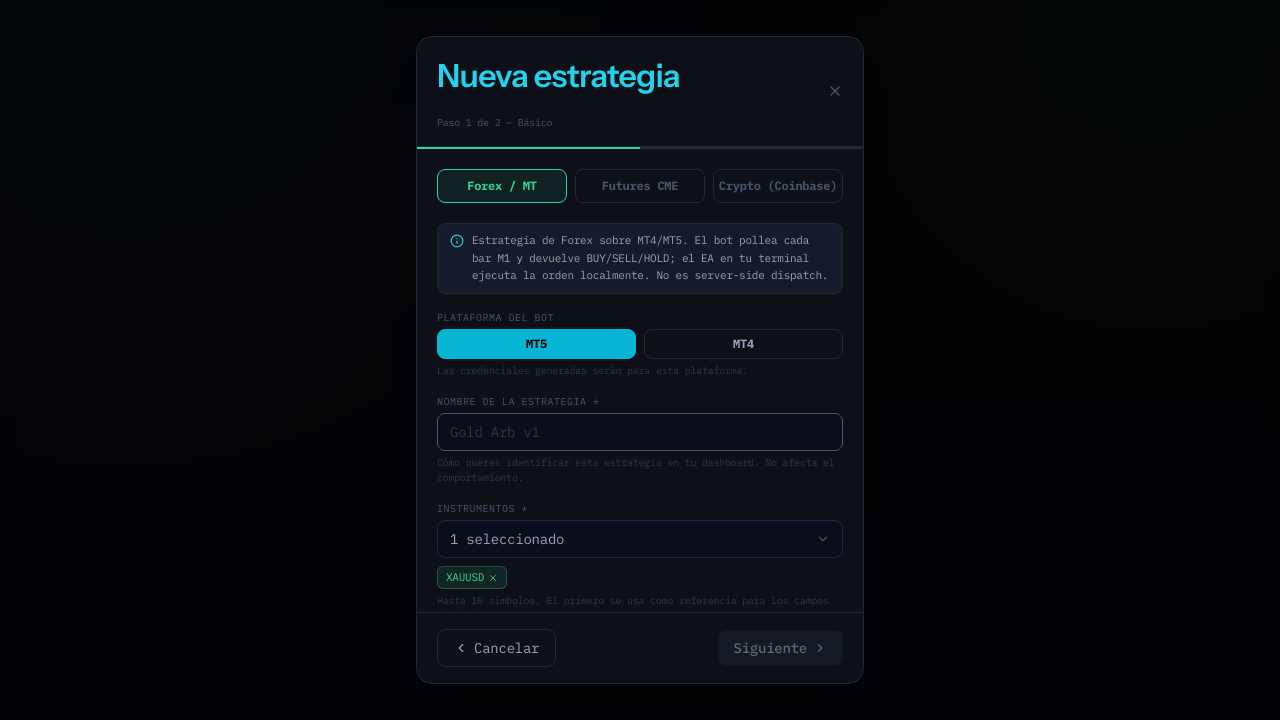
NewStrategyWizard › switching to Futures CME renders StepFutures
Expected: the text "Estrategia de Forex sobre MT4/MT5" is shown, [472,233,828,282]
What coordinates should you click on to do the following:
click the button "Futures CME"
I would click on:
 (640, 186)
Its box is [575,169,705,203].
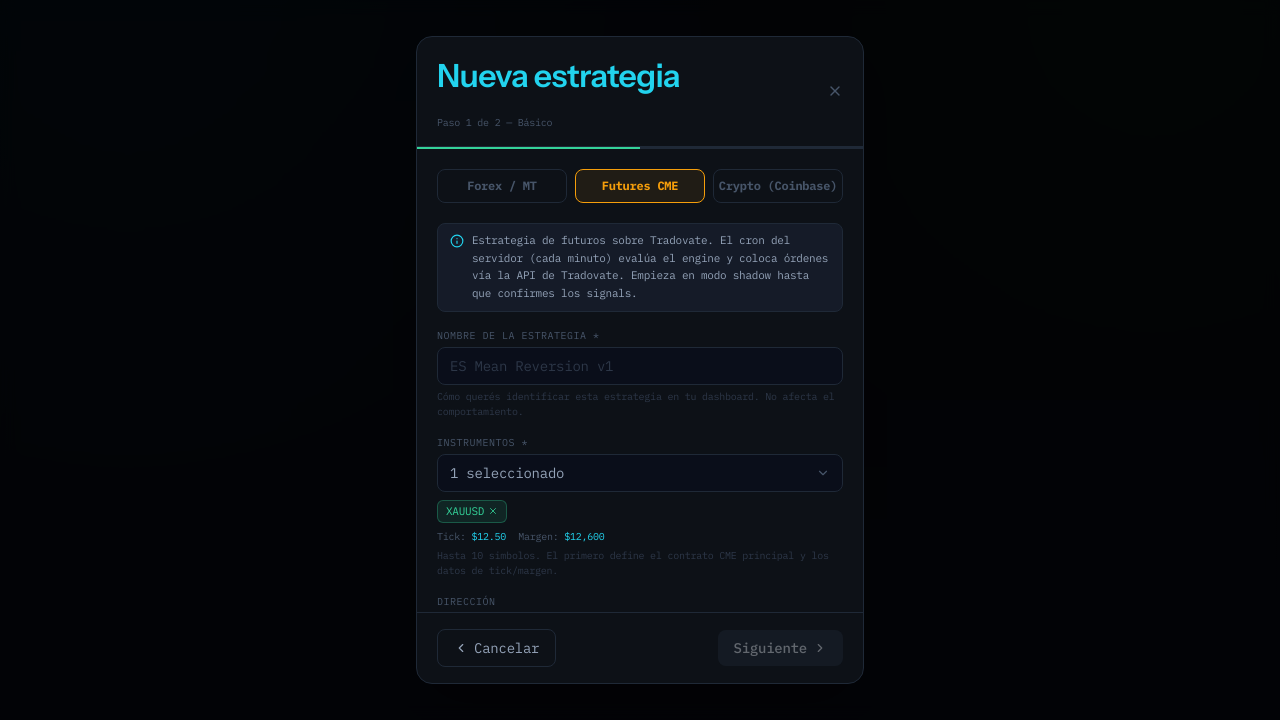
Result: the text "contrato" is shown at [437,549,829,577]
